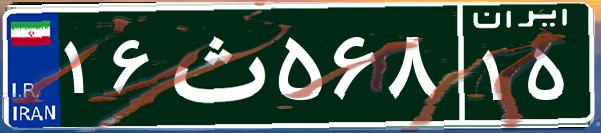1: (57, 26, 110, 107), (475, 38, 525, 113)
5: (273, 28, 330, 110), (525, 38, 570, 115)
6: (330, 28, 385, 110), (110, 28, 158, 105)
8: (385, 28, 445, 110)
ث: (158, 15, 273, 115)
